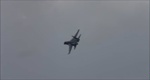maybay_muctieu: (62, 29, 81, 53)
